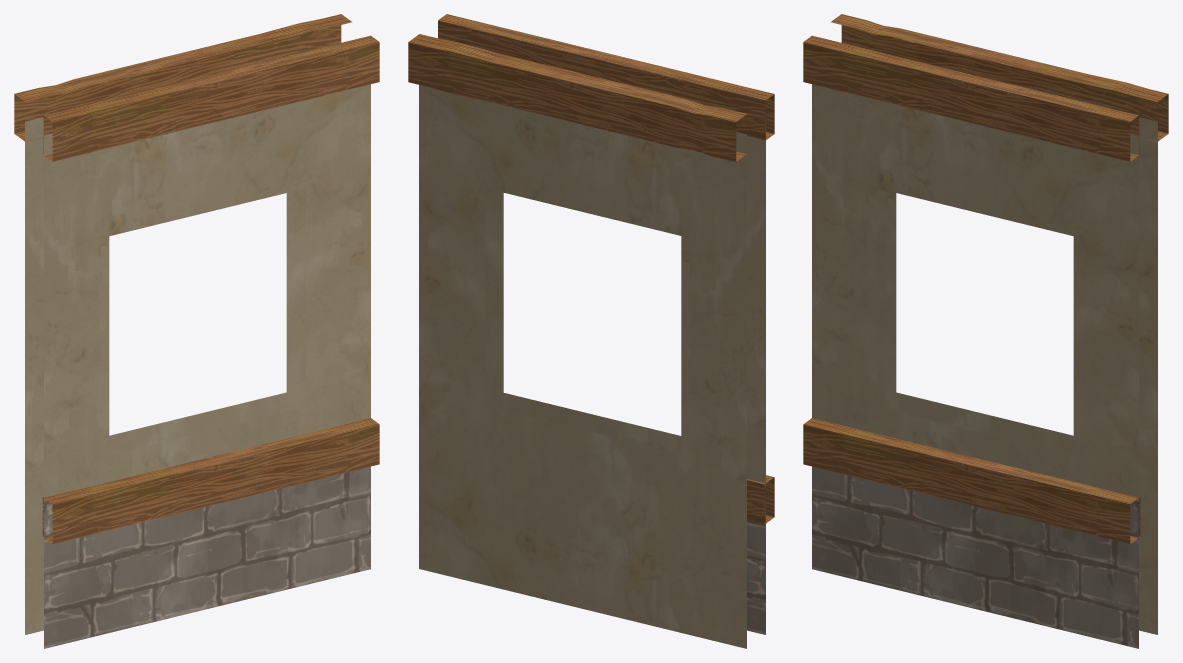
The model's file is Wall_Plaster_Window_Wide_Flat.gltf.
3 renders of one model, left to right at view 1: azimuth 30°, elevation 25°; view 2: azimuth 150°, elevation 25°; view 3: azimuth 330°, elevation 25°, orthographic.
Parts seen in each view (by area): view 1: Wall_Plaster_Window_Wide_Flat; view 2: Wall_Plaster_Window_Wide_Flat; view 3: Wall_Plaster_Window_Wide_Flat.
Boxes of the visible parts, x1,y1,x2,y2 form: Wall_Plaster_Window_Wide_Flat: (14,14,379,648); Wall_Plaster_Window_Wide_Flat: (408,14,774,648); Wall_Plaster_Window_Wide_Flat: (803,14,1168,648).
Bounding box in the file's own units: 2 × 3.12 × 0.4065.
Materials: 3 (3 with a texture image).
